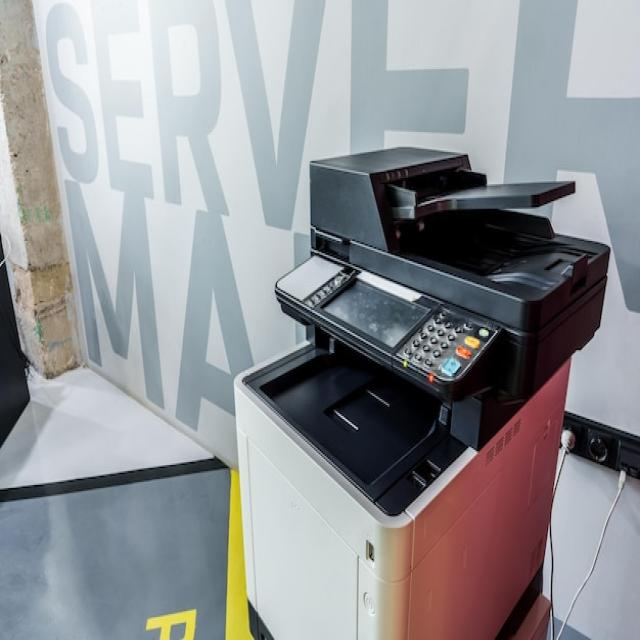printer: (232, 144, 609, 638)
